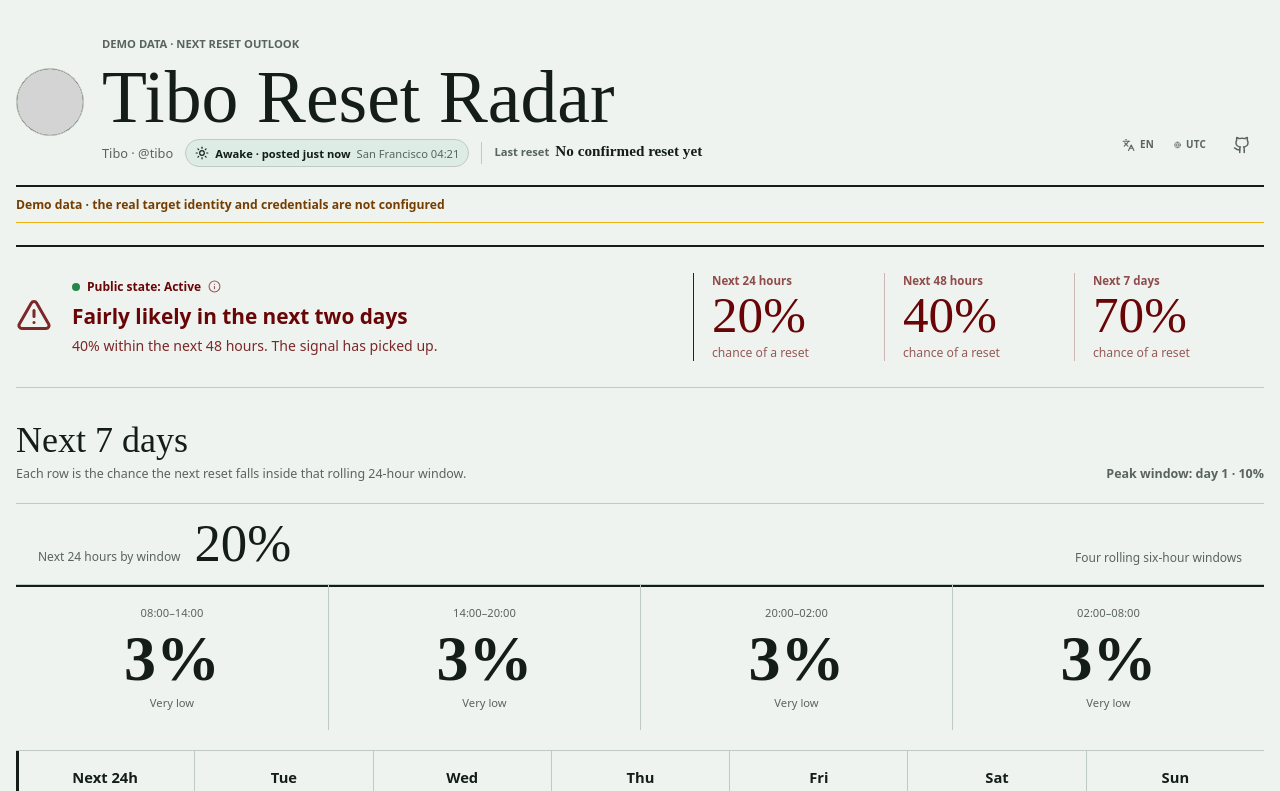
App › renders English for an English browser and switches back on demand
Check: the heading "Tibo Reset Radar" is shown, box [102,63,702,132]
Check: the text "Next 24 hours" is shown, box [712,273,792,288]
Click the button with aria-label "Switch language" at (1138, 145), box [1116,123,1160,167]
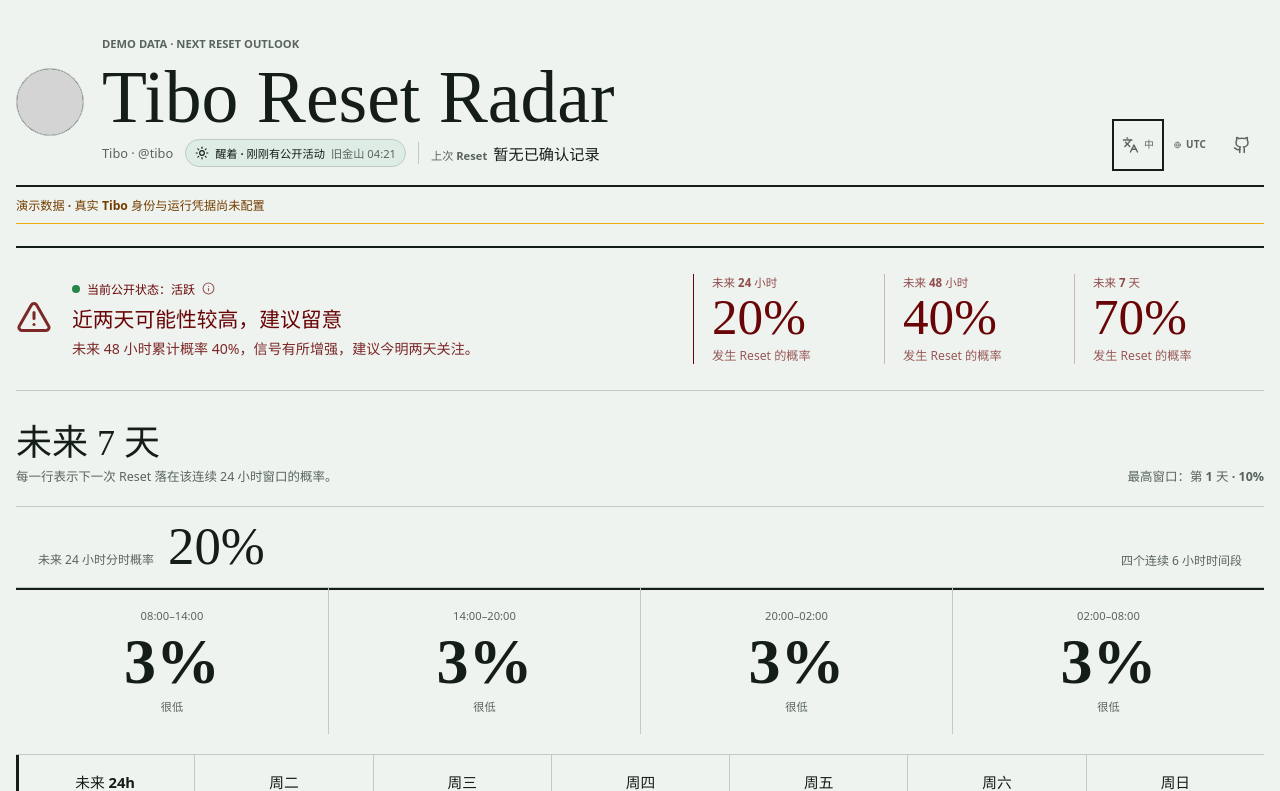
Check: the text "未来 24 小时" is shown, box [712,275,777,290]
